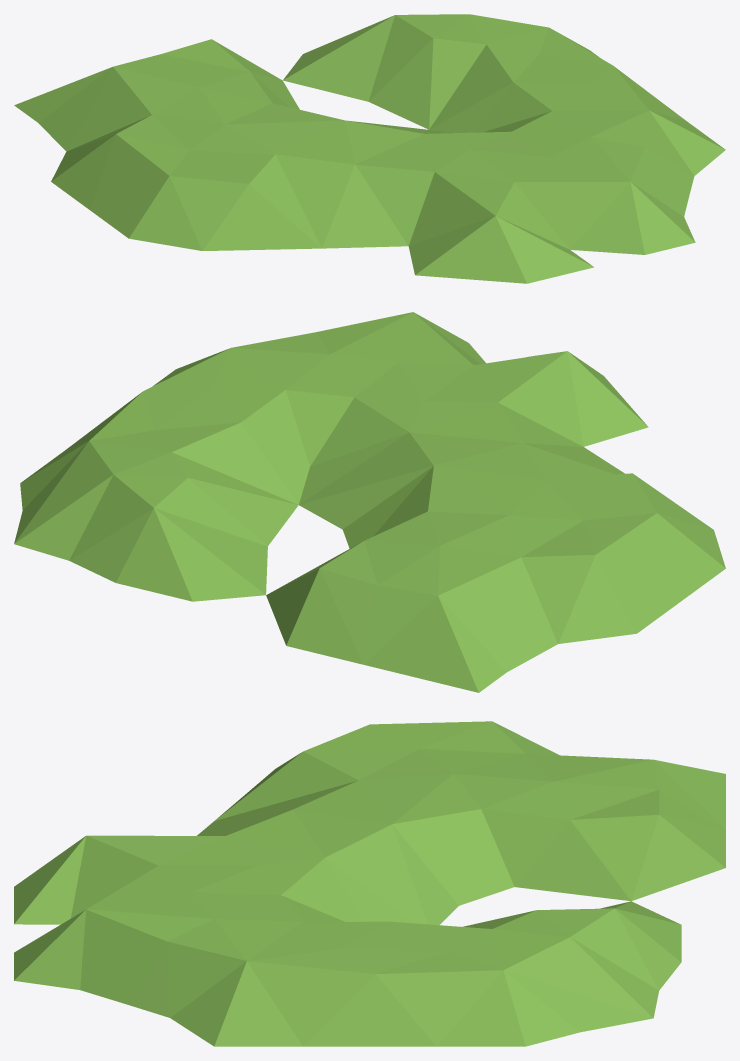
Rendered from MT_Mountain_S_b_28_LOD.fbx.
3 views of the same model, one above another, from view 1: azimuth 30°, elevation 25°; view 2: azimuth 150°, elevation 25°; view 3: azimuth 270°, elevation 25° (orthographic). The views are drawn at different scales.
Visible parts, largest first — view 1: MT_Mountain_S_b_28_LOD0; view 2: MT_Mountain_S_b_28_LOD0; view 3: MT_Mountain_S_b_28_LOD0.
Boxes of the visible parts, x1,y1,x2,y2 form: MT_Mountain_S_b_28_LOD0: [14, 14, 725, 283]; MT_Mountain_S_b_28_LOD0: [14, 312, 725, 692]; MT_Mountain_S_b_28_LOD0: [14, 721, 725, 1046].
Size of what is drawn, in the model's own units: 2500 by 208 by 2500.
